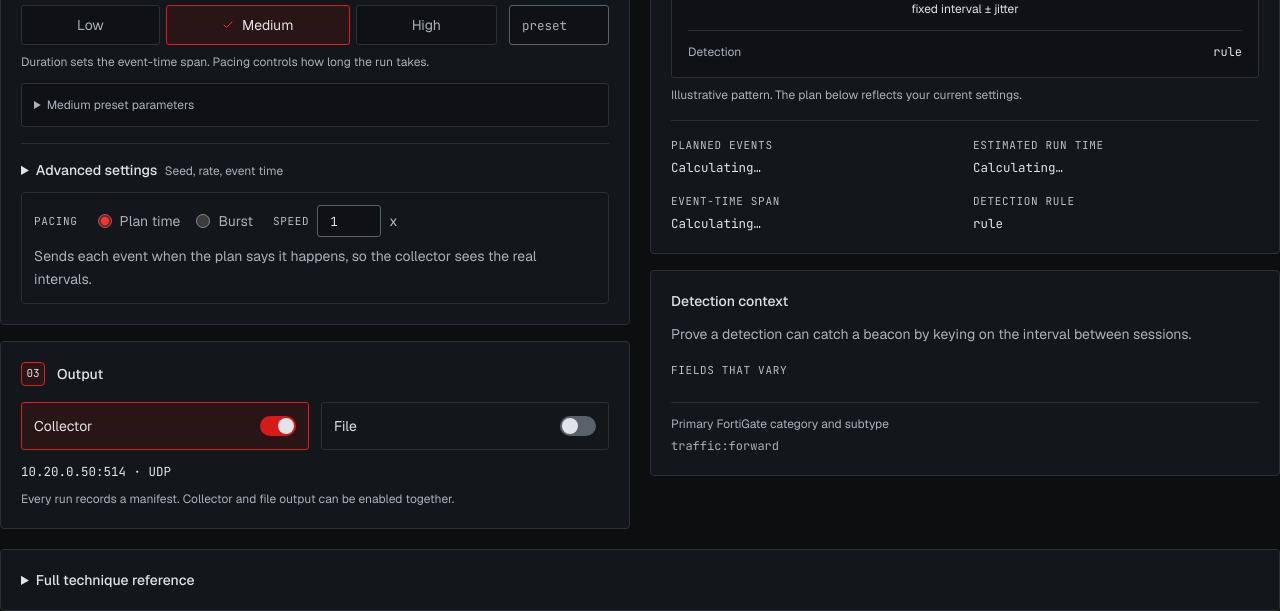
Test: RunPanel destination › warns before the run that nothing will be delivered
The image size is (1280, 611).
(page scrolled)
Click the 1st switch named "Collector" at (278, 426), box [260,416,296,436]
(page scrolled)
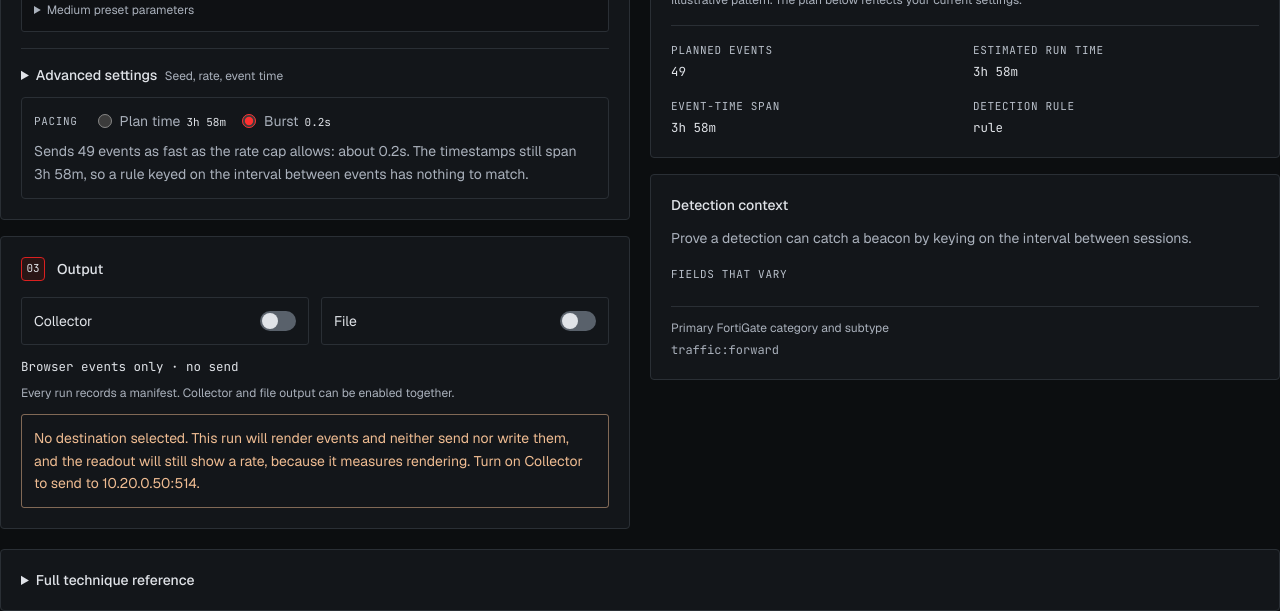
Expected: the message shows "No destination selected", [34,429,583,492]
Expected: the message shows "measures rendering", [34,429,583,492]
Expected: the message shows "10.20.0.50:514", [21,414,609,508]
